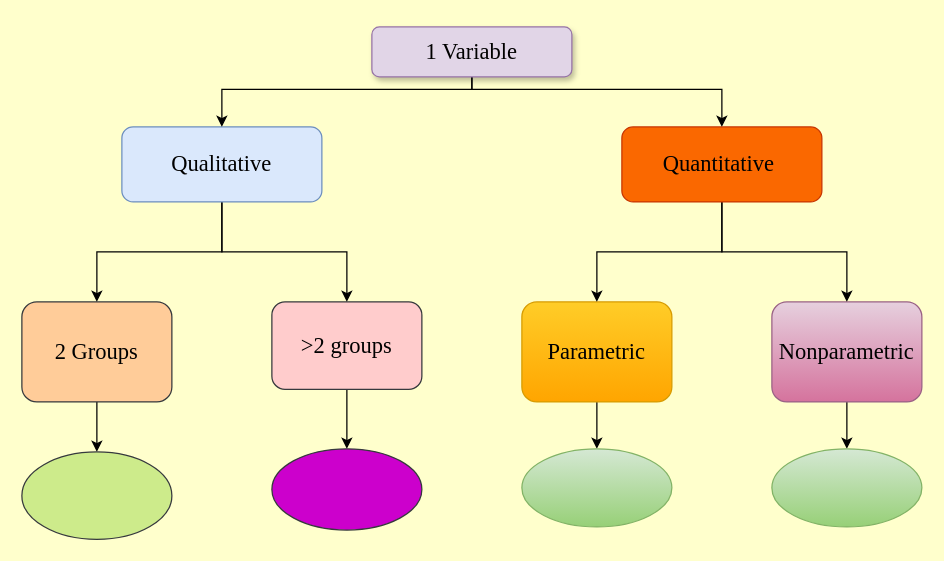
Some shapes in this 944 by 561 pixel diagram are drawn without their labels. The centre of each missing label's shape, as x and y in pixels:
"Chi-square goodness of fit test" goes at (346,489).
"One-proportion test" goes at (96,495).
"One-sample student t-test" goes at (596,487).
"One-sample Wilcoxon test" goes at (846,487).
